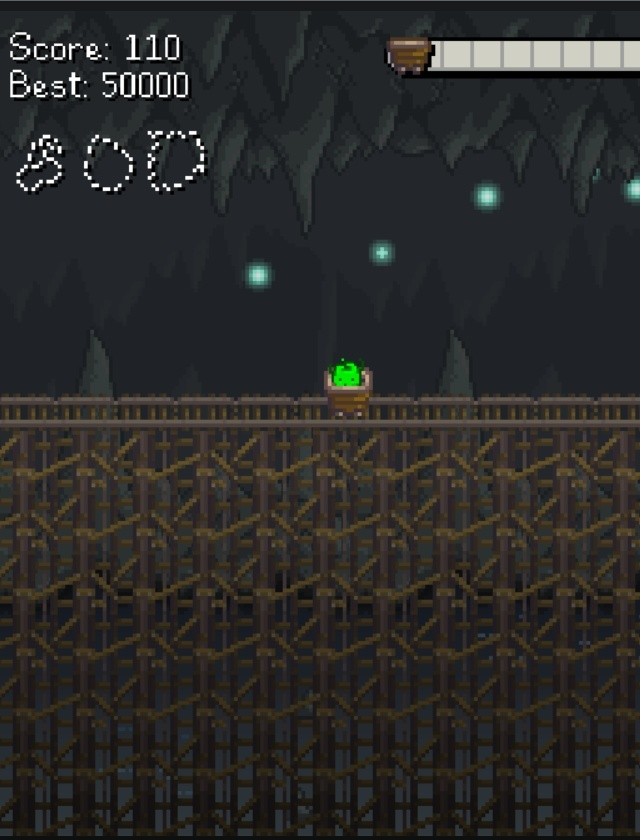minecart: (325, 358, 371, 416)
tracks: (0, 389, 318, 436), (389, 386, 640, 434)
